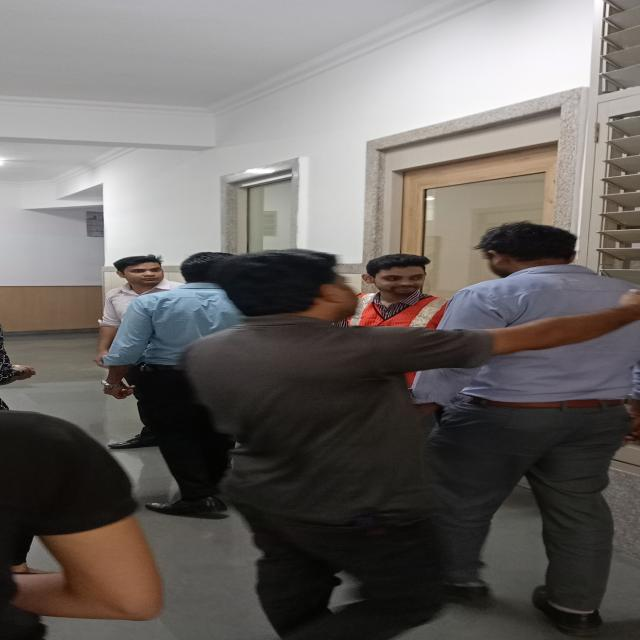unsafe: (179, 250, 493, 640), (418, 221, 638, 640)
